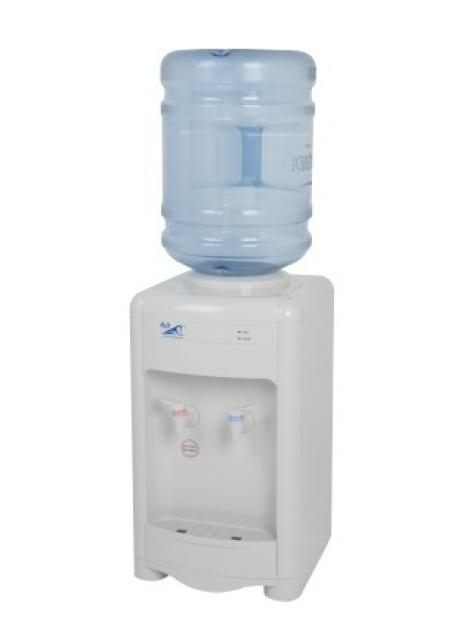Dispenser: (128, 49, 333, 600)
